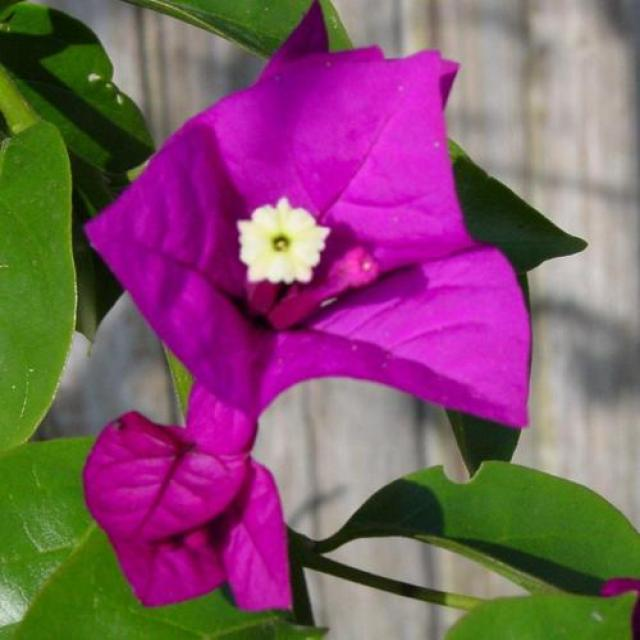bougainvillea: (56, 0, 551, 637)
